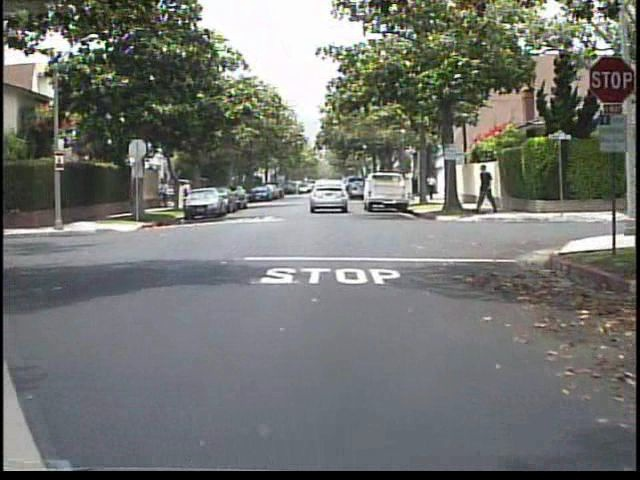person: (474, 161, 502, 219), (423, 169, 440, 203), (157, 179, 175, 208), (180, 177, 196, 208)
